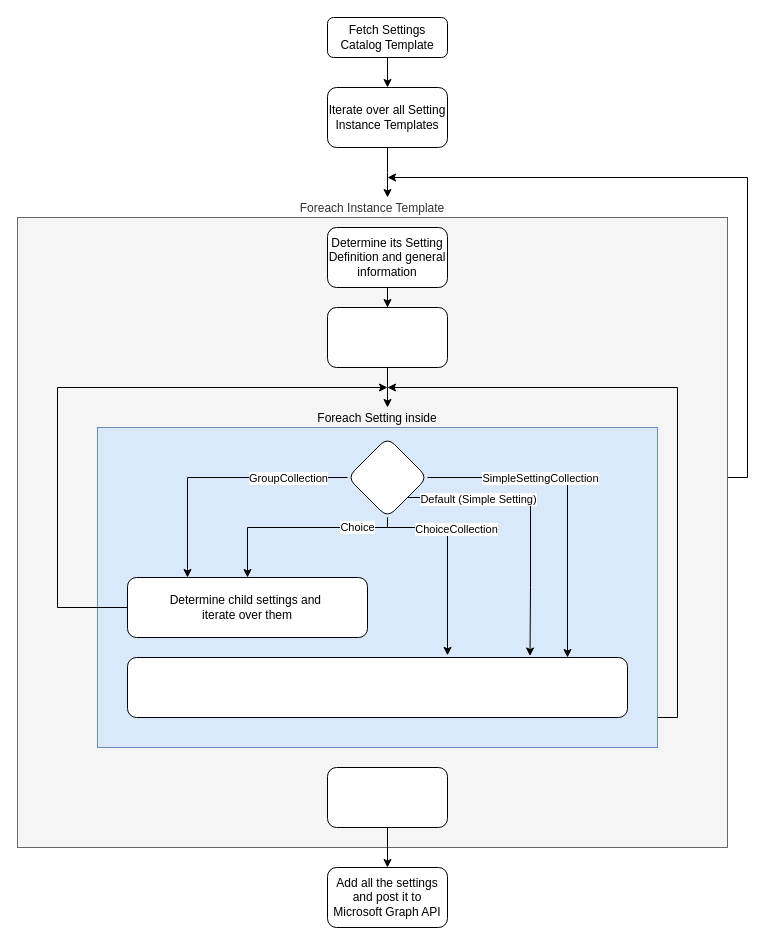
This 773x945 diagram has some shape labels left out. The centre of each missing label's shape, as x and y in pixels:
Add Instance Template Information and Cleanup: [387,797]
Build Settings Tree of the Setting: [387,337]
Get the DSC Value and create the setting instance for that setting: [377,687]
What is the Type?: [387,477]
